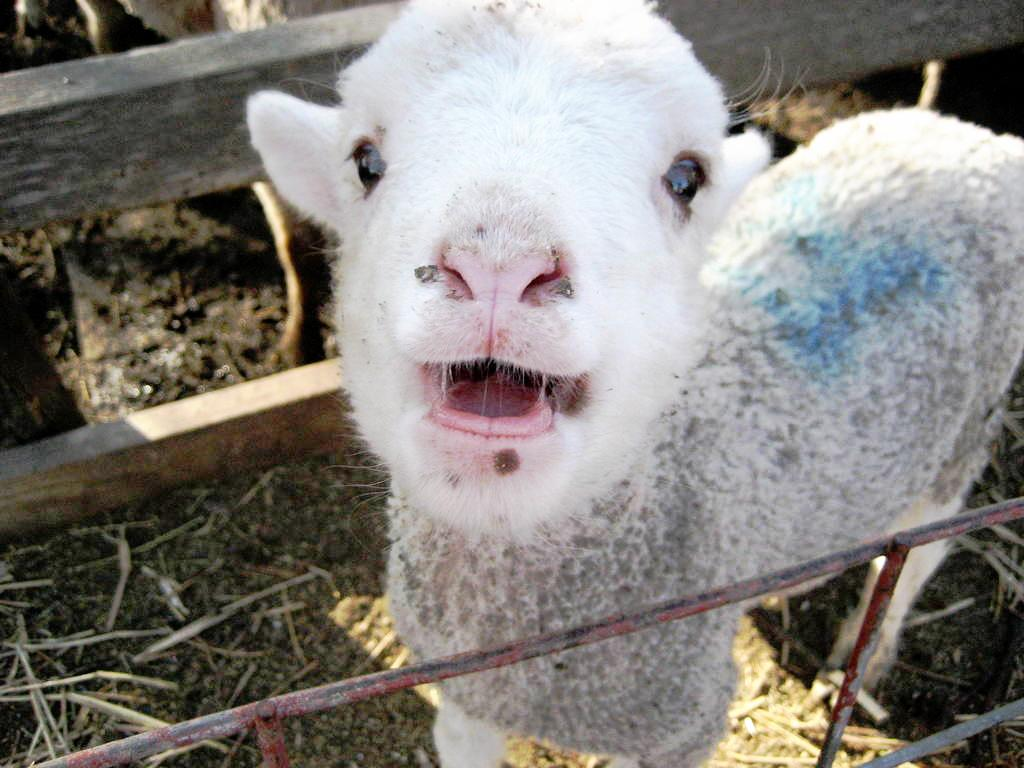Sheep: (244, 0, 1024, 767)
